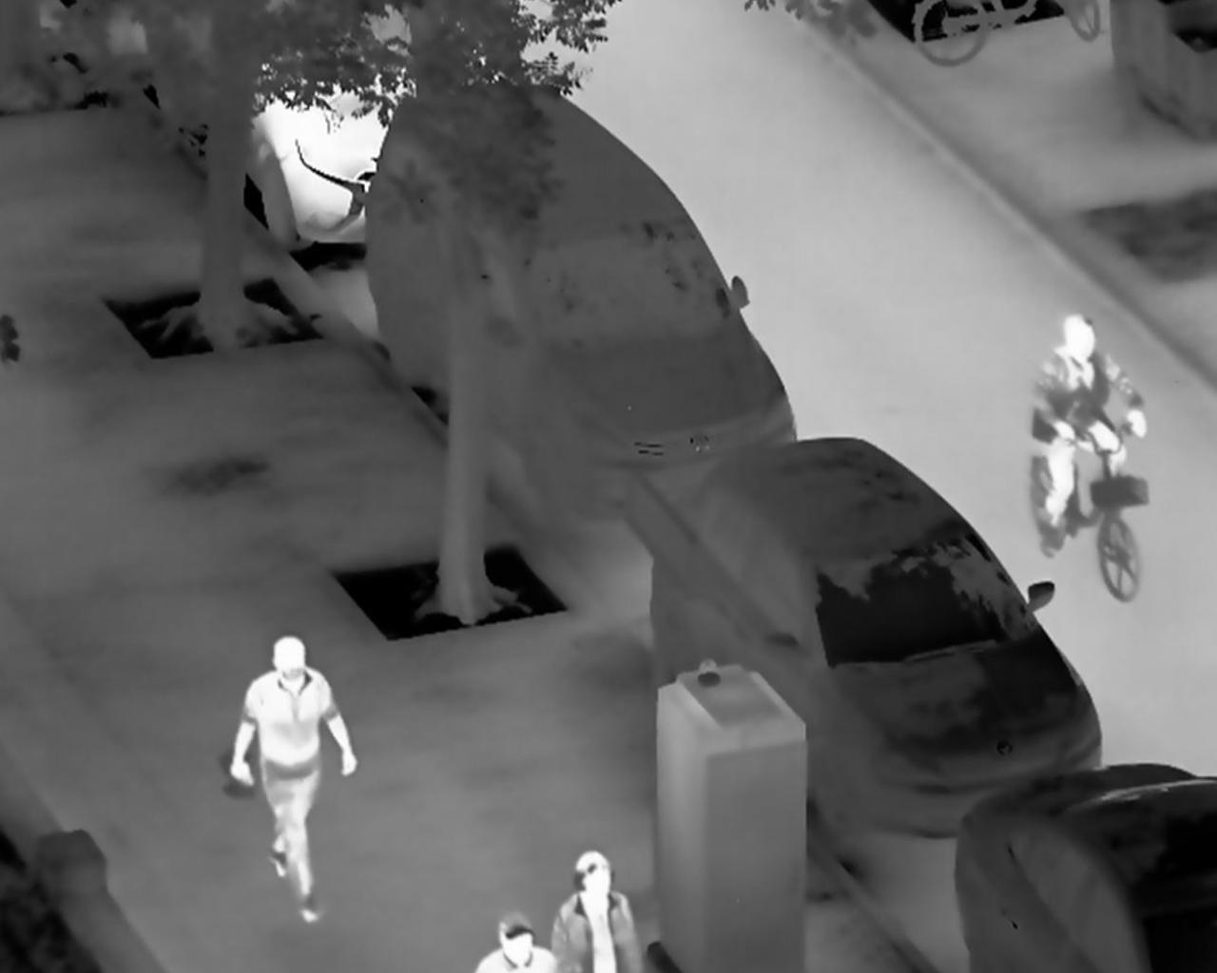person: (229, 635, 357, 926), (1031, 314, 1150, 560), (551, 849, 643, 973)
